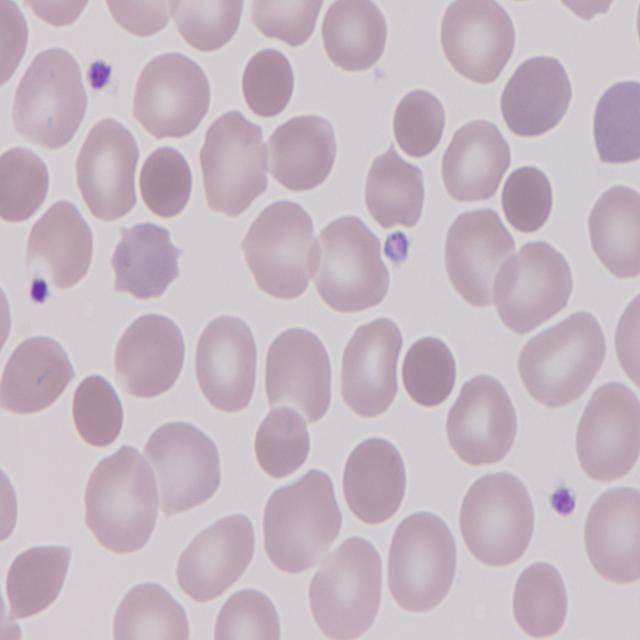Platelets: (546, 483, 576, 522)
RBC: (82, 444, 164, 556), (257, 469, 341, 577), (10, 41, 93, 150), (308, 531, 391, 638), (385, 506, 463, 618), (240, 197, 323, 302), (520, 312, 610, 408), (193, 109, 270, 219), (458, 469, 540, 572), (140, 419, 222, 522), (312, 214, 392, 316), (490, 238, 574, 334), (175, 512, 260, 606), (442, 372, 519, 475), (129, 50, 213, 143), (193, 310, 265, 413), (572, 378, 640, 486), (74, 116, 142, 223), (444, 209, 518, 306), (113, 308, 190, 401), (439, 114, 514, 208), (336, 318, 406, 418), (497, 49, 573, 140), (440, 0, 520, 86), (578, 480, 640, 585), (265, 111, 339, 198), (0, 333, 74, 419), (28, 202, 96, 292), (109, 216, 178, 301), (361, 146, 432, 228), (584, 183, 640, 281), (321, 0, 390, 76), (110, 580, 194, 640), (584, 74, 637, 168), (510, 560, 570, 640), (214, 582, 290, 640), (171, 0, 251, 55), (246, 0, 330, 52), (0, 143, 51, 223), (101, 0, 182, 41), (0, 1, 30, 98), (613, 285, 640, 391), (20, 0, 97, 29)
Spherocyte: (340, 434, 410, 528), (253, 399, 317, 481), (136, 141, 197, 223), (390, 84, 450, 162), (238, 44, 296, 124), (68, 372, 125, 450), (399, 336, 459, 409), (500, 163, 556, 234)
